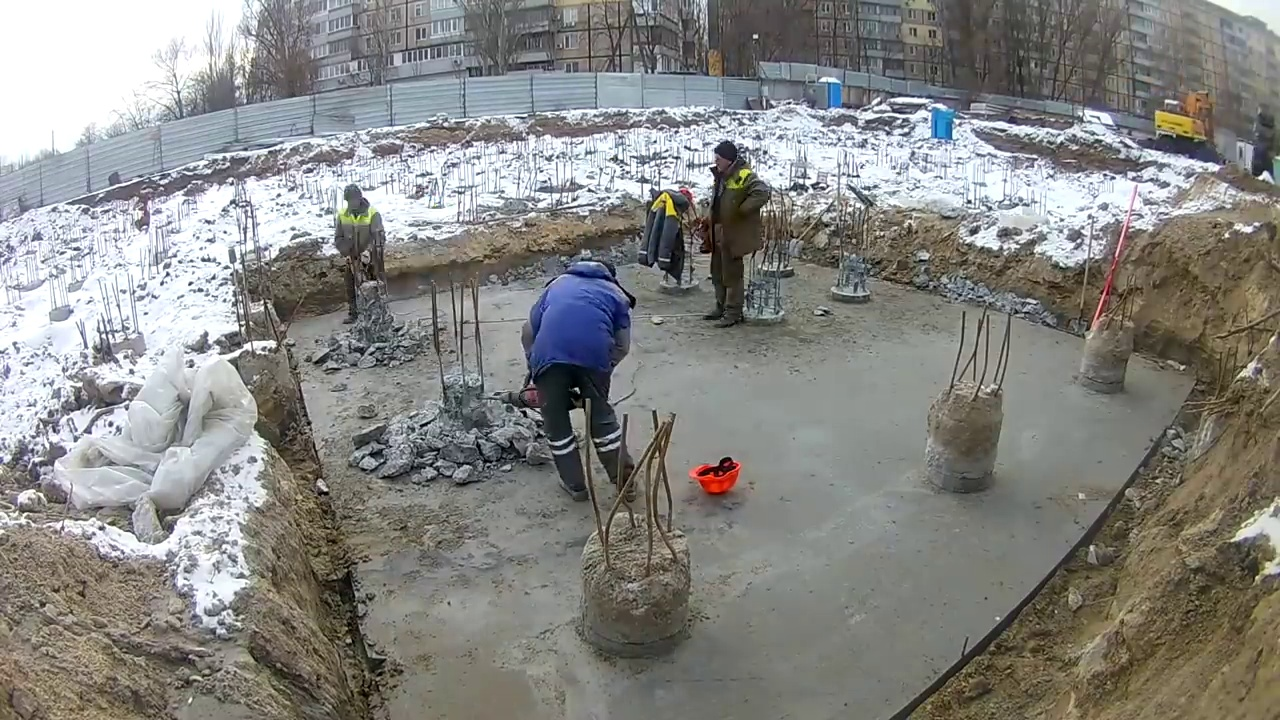helmet: (688, 460, 743, 497)
helmet-off: (568, 253, 623, 286), (714, 139, 743, 172), (343, 184, 369, 215)
person: (520, 248, 634, 506), (706, 136, 768, 331), (333, 184, 387, 331)
